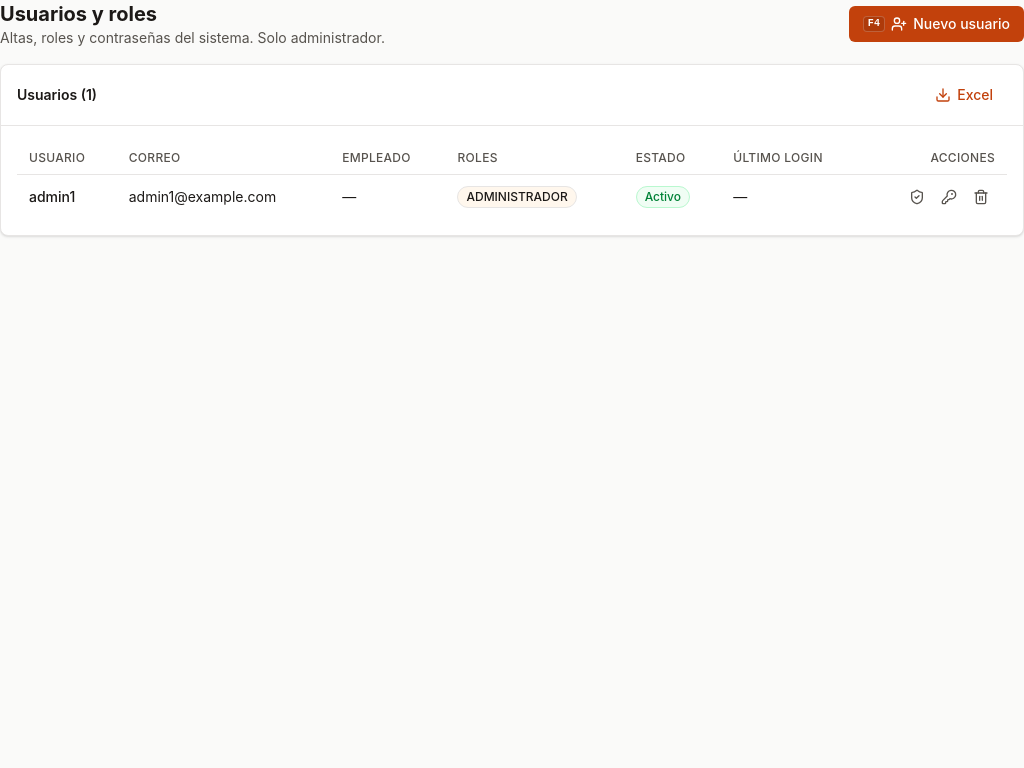
UsuariosPage (smoke) › abre el diálogo de edición de roles desde la fila
The image size is (1024, 768).
Expected: the text "admin1" is shown, x1=29 y1=188 x2=75 y2=205
Click the button named "Editar roles de admin1" at [917, 197], box x1=903 y1=183 x2=931 y2=211
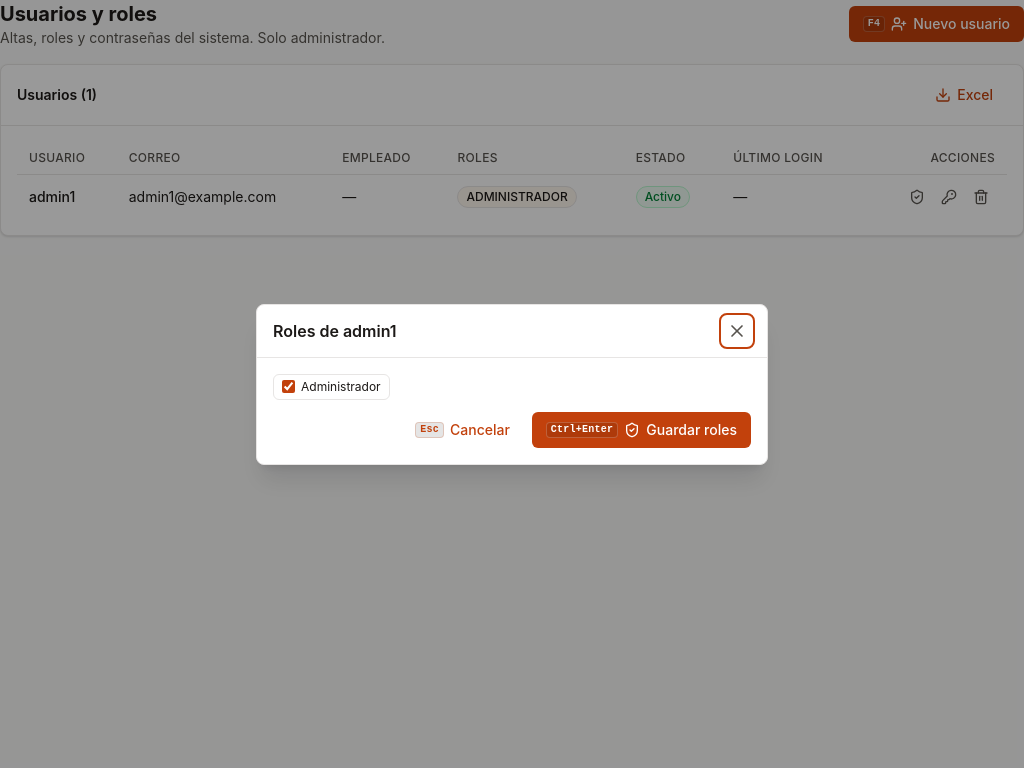
Expected: the heading "Roles de admin1" is shown, x1=273 y1=318 x2=397 y2=342
Expected: the button "Ctrl+Enter Guardar roles" is shown, x1=532 y1=412 x2=751 y2=448
